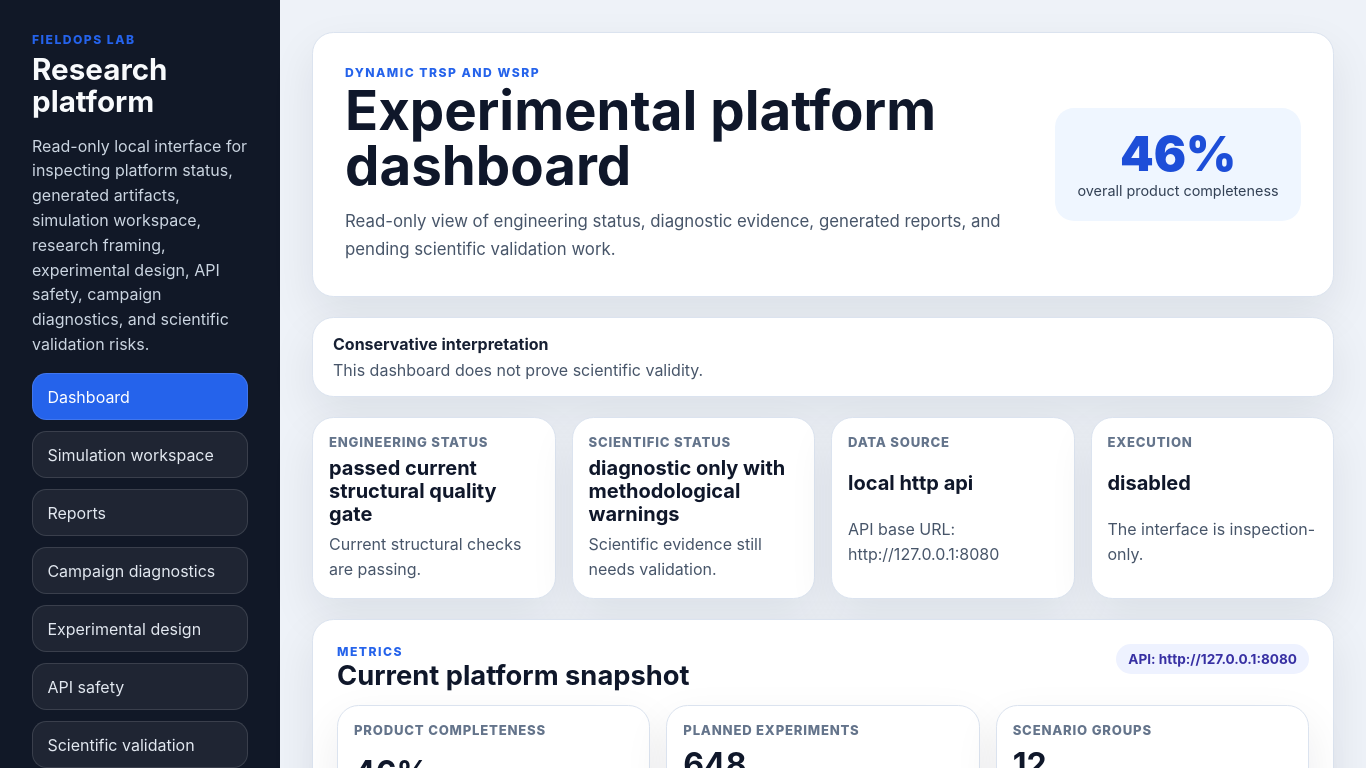
Test: App dashboard › navigates to scientific validation page
Expected: the heading "Experimental platform dashboard" is shown, [345,83,1023,192]
Click the button "Scientific validation" at (140, 745), box [32,721,248,767]
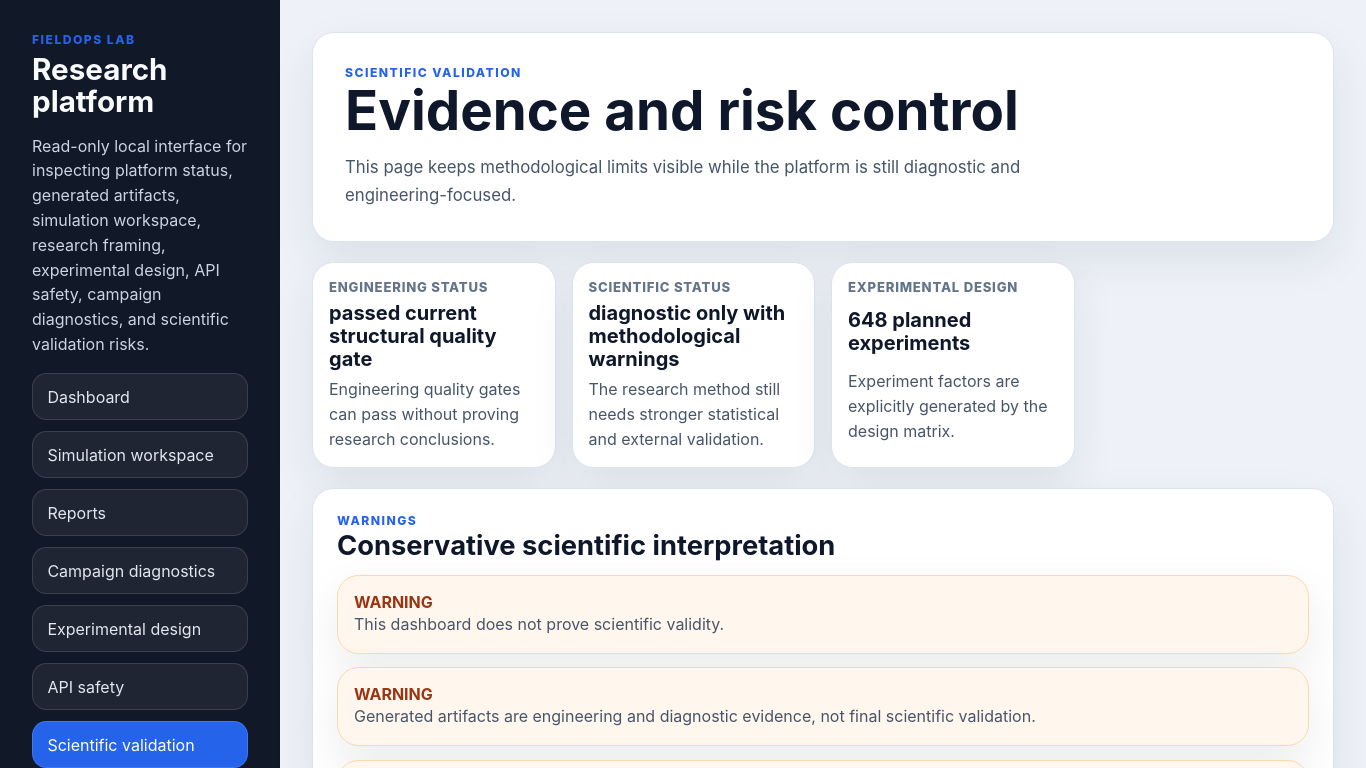
Now the heading "Evidence and risk control" is shown, box [345,77,1019,143]
Now the text "Generated artifacts are engineering and diagnostic evidence, not final scientific validation." is shown, box [354,706,1036,726]
